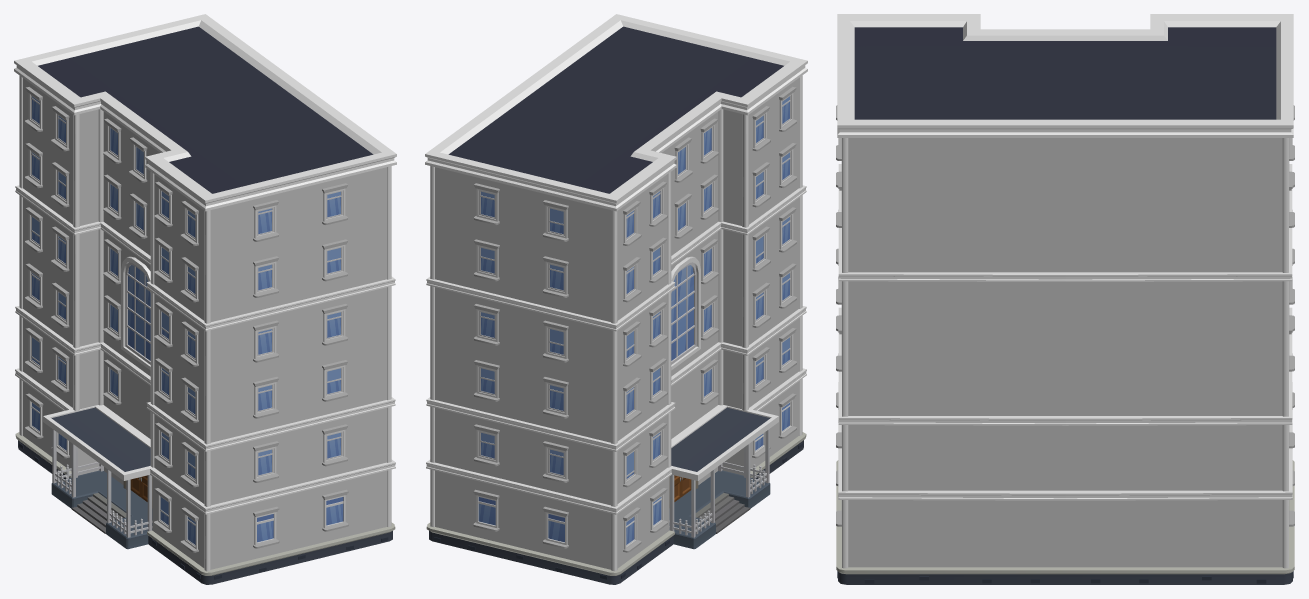
File: Building_5_4_B.fbx
The picture shows the model from 3 angles, left to right: view 1: azimuth 30°, elevation 25°; view 2: azimuth 150°, elevation 25°; view 3: azimuth 270°, elevation 25°; orthographic projection. The views are drawn at different scales.
Parts seen in each view (by area): view 1: Building_5_4_B; view 2: Building_5_4_B; view 3: Building_5_4_B.
Part boxes in pixels (x1,y1,x2,y2): Building_5_4_B: [14, 14, 396, 584]; Building_5_4_B: [425, 14, 807, 584]; Building_5_4_B: [836, 14, 1294, 584].
Bounding box in the file's own units: 1251 × 2109 × 1908.
